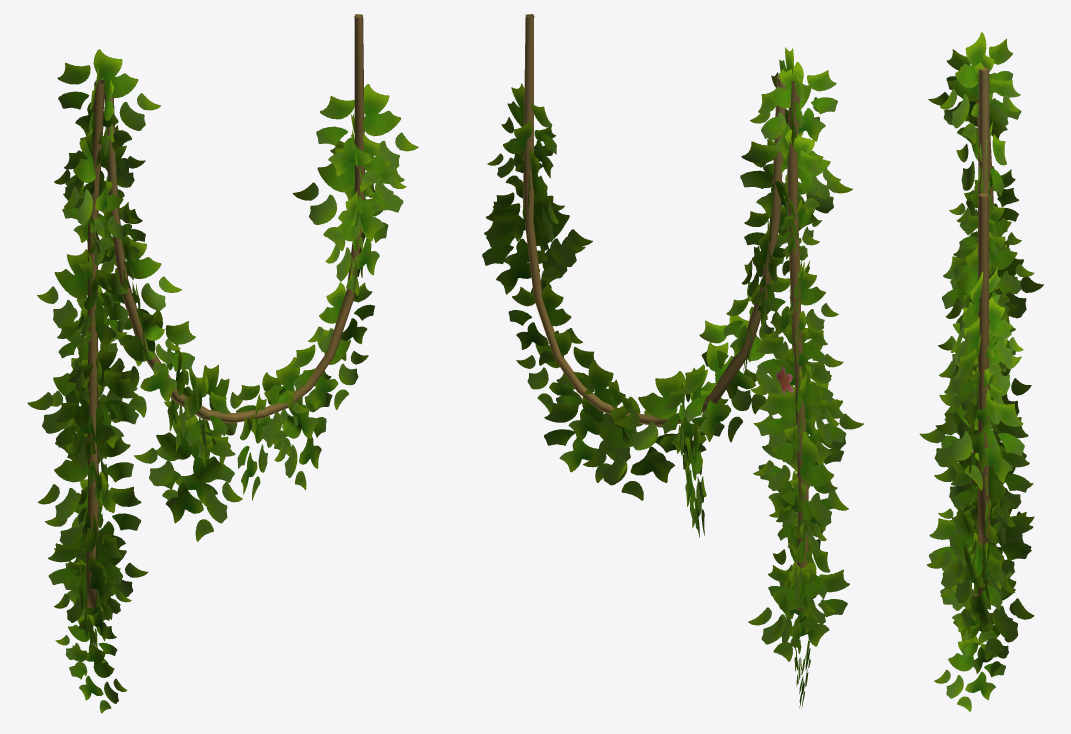
The model's file is P_IvyCoastalVine06.obj.
The picture shows the model from 3 angles, left to right: view 1: azimuth 30°, elevation 25°; view 2: azimuth 150°, elevation 25°; view 3: azimuth 270°, elevation 25°; orthographic projection. The views are drawn at different scales.
Bounding box in the file's own units: 6.71 × 11.4 × 2.21.
